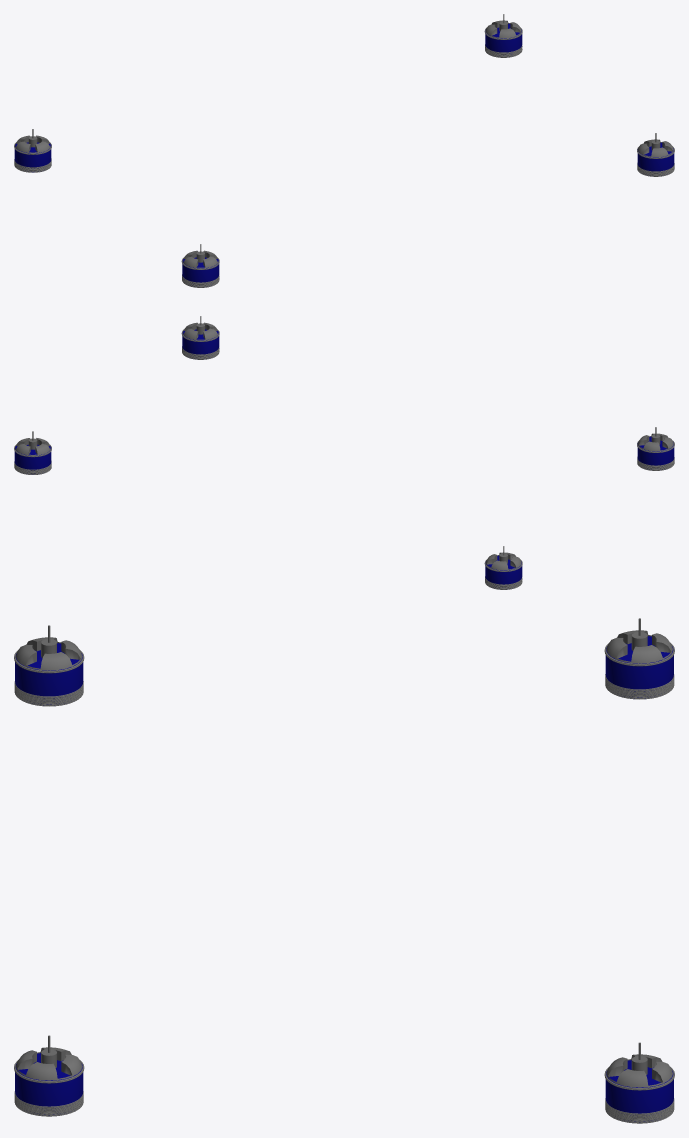
Rendered from copter_motors_blue.dae.
The picture shows the model from 3 angles, top to bottom: view 1: azimuth 30°, elevation 25°; view 2: azimuth 150°, elevation 25°; view 3: azimuth 270°, elevation 25°; orthographic projection. The views are drawn at different scales.
Visible parts, largest first — view 1: Motor (×2), Motorrundung_oben (×2); view 2: Motor (×2), Motorrundung_oben (×2); view 3: Motor (×2), Motorrundung_oben (×2).
Boxes of the visible parts, bbox=[...] form: Motor (×2): bbox=[14, 23, 674, 285]; Motorrundung_oben (×2): bbox=[15, 20, 673, 268]; Motor (×2): bbox=[14, 329, 674, 588]; Motorrundung_oben (×2): bbox=[15, 322, 673, 570]; Motor (×2): bbox=[15, 636, 673, 1122]; Motorrundung_oben (×2): bbox=[16, 630, 672, 1087].
Size of the model in its own units: 946 by 64.66 by 582.
